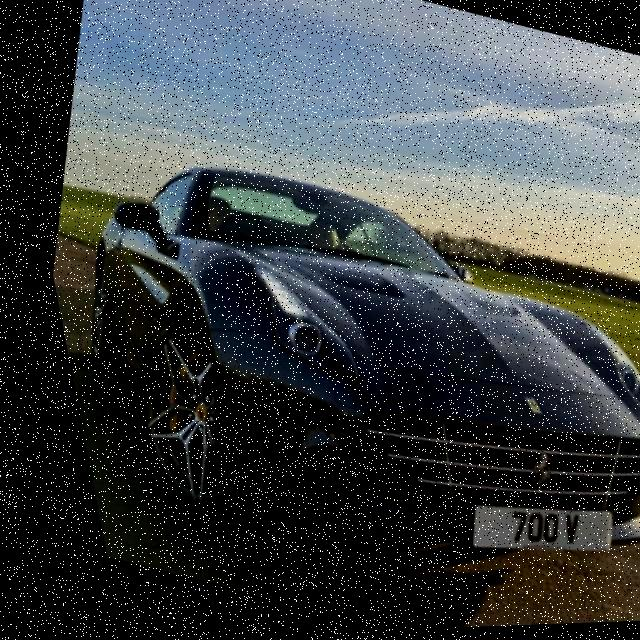license_plate: (444, 476, 597, 585)
